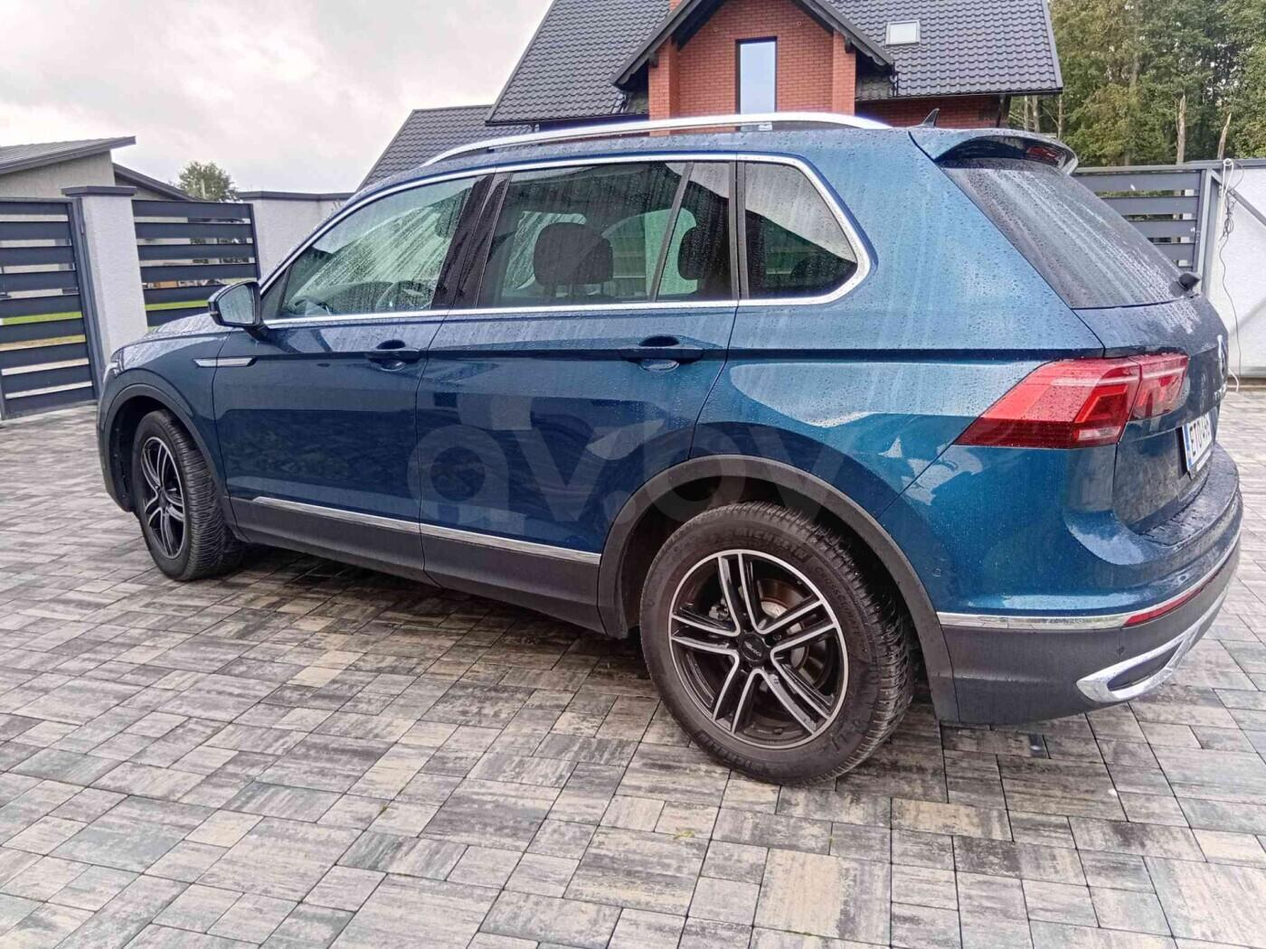Tiguan_2020-2024: (93, 127, 1245, 786)
